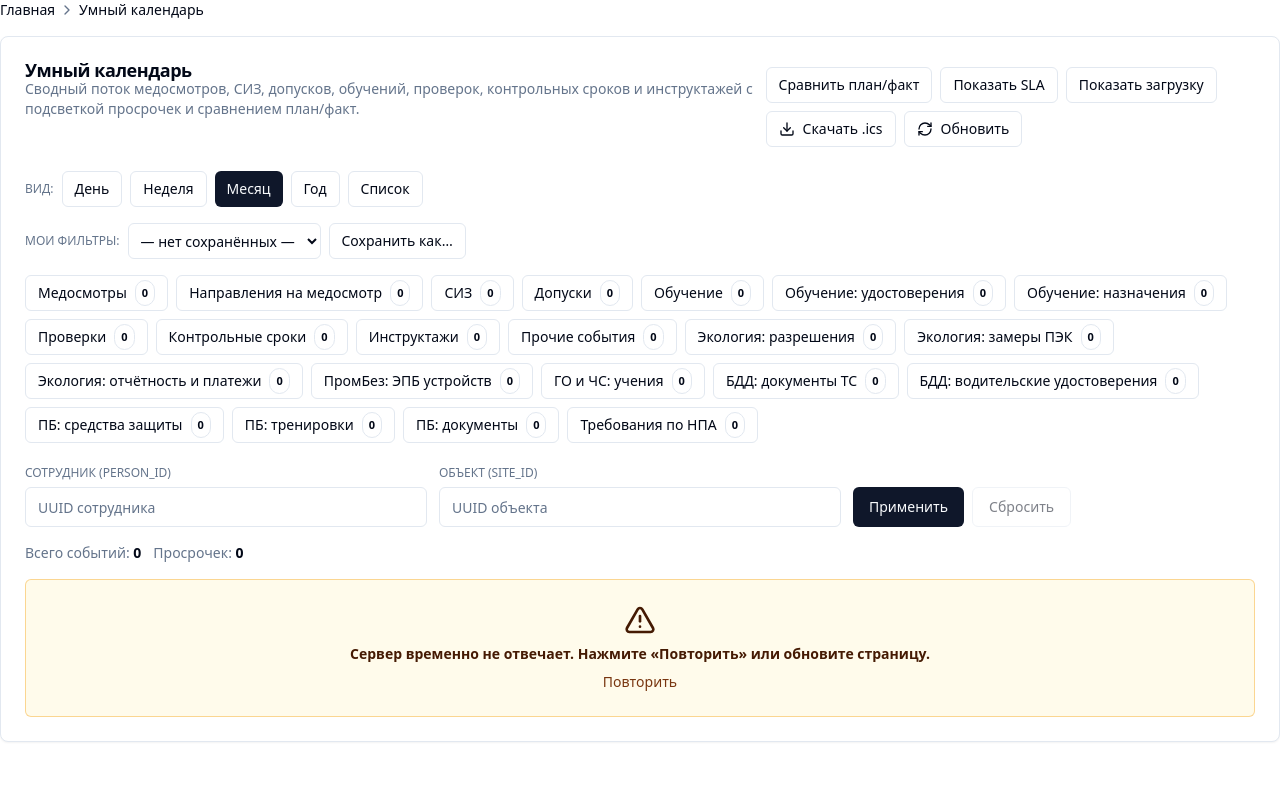
Test: CalendarPage › renders error state and retries
Expected: the message is shown, [25,579,1255,717]
Click the button "Повторить" at (640, 682), box [603,672,677,692]
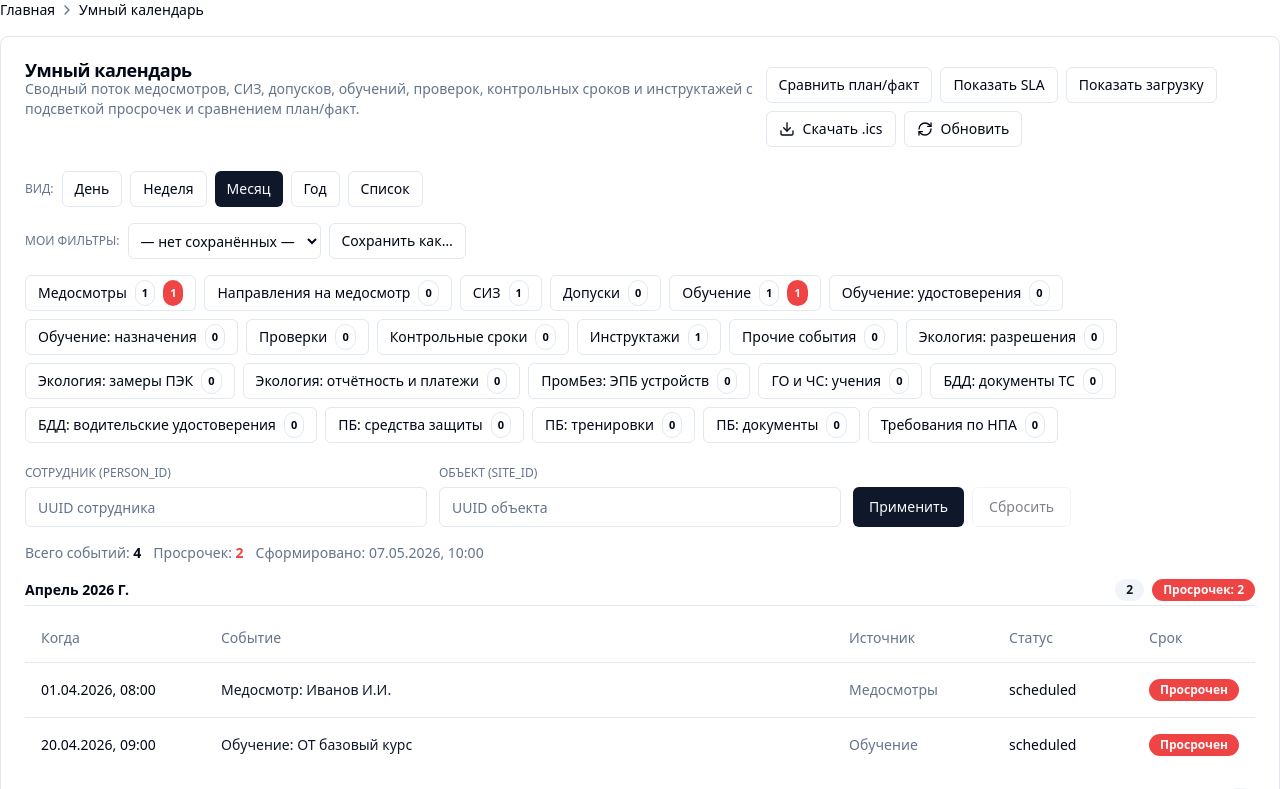
Expected: the link "Медосмотр: Иванов И.И." is shown, [221,680,391,698]
